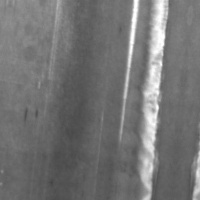scratches: (127, 11, 174, 193), (113, 10, 140, 145)
